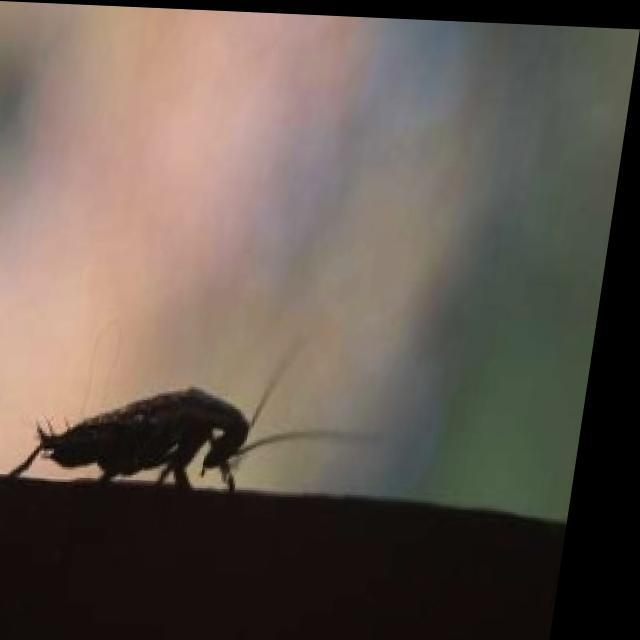cockroach: (6, 383, 254, 494)
